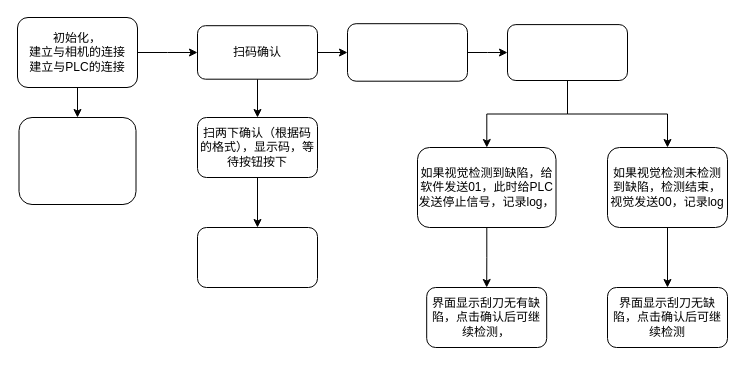
Image size: 745x365. Some labels were removed from this diagram. Here are the shapes that lost their labels. From the top down, the centre of each, then its label:
At (x=407, y=52): "按下按钮".
At (x=567, y=52): "开始检测，PLC控制视觉移动拍照处理".
At (x=77, y=160): "监听客户端和服务端的状态，连接显示绿灯，断线灯不亮，连接中断会报警，二者不在线无法开启检测，并在界面上提示".
At (x=257, y=257): "持续给PLC发消息根据回复判断状态".
